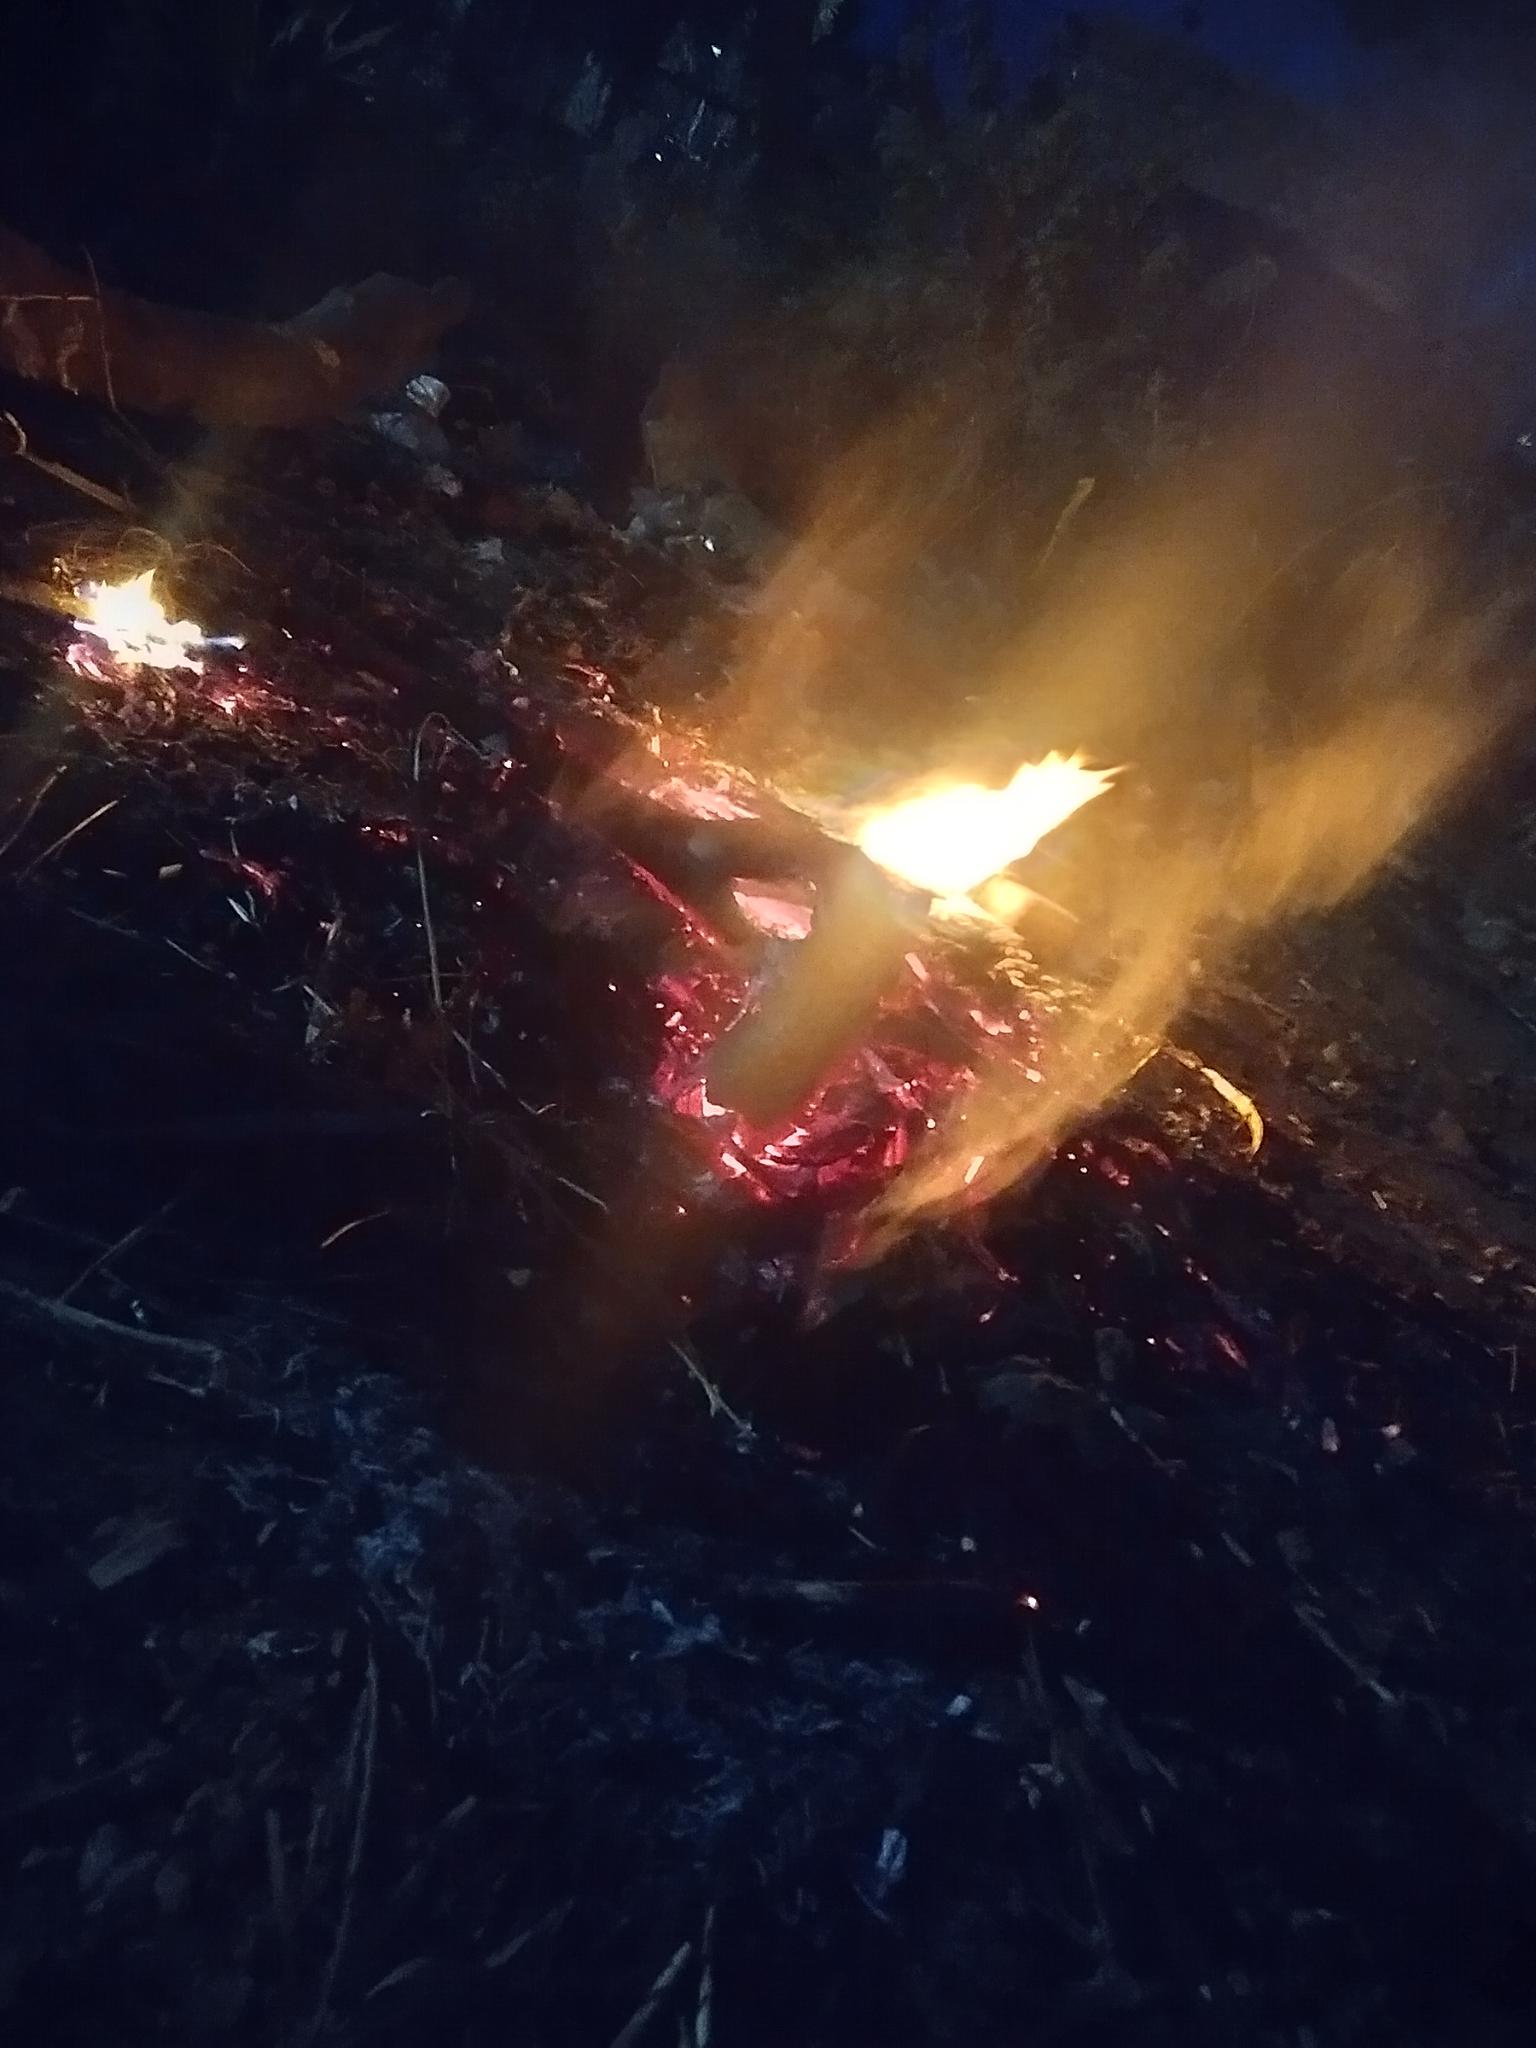Fire: (844, 742, 1129, 927), (63, 563, 242, 681)
Smoke: (823, 345, 1521, 731), (1131, 734, 1459, 1155)
